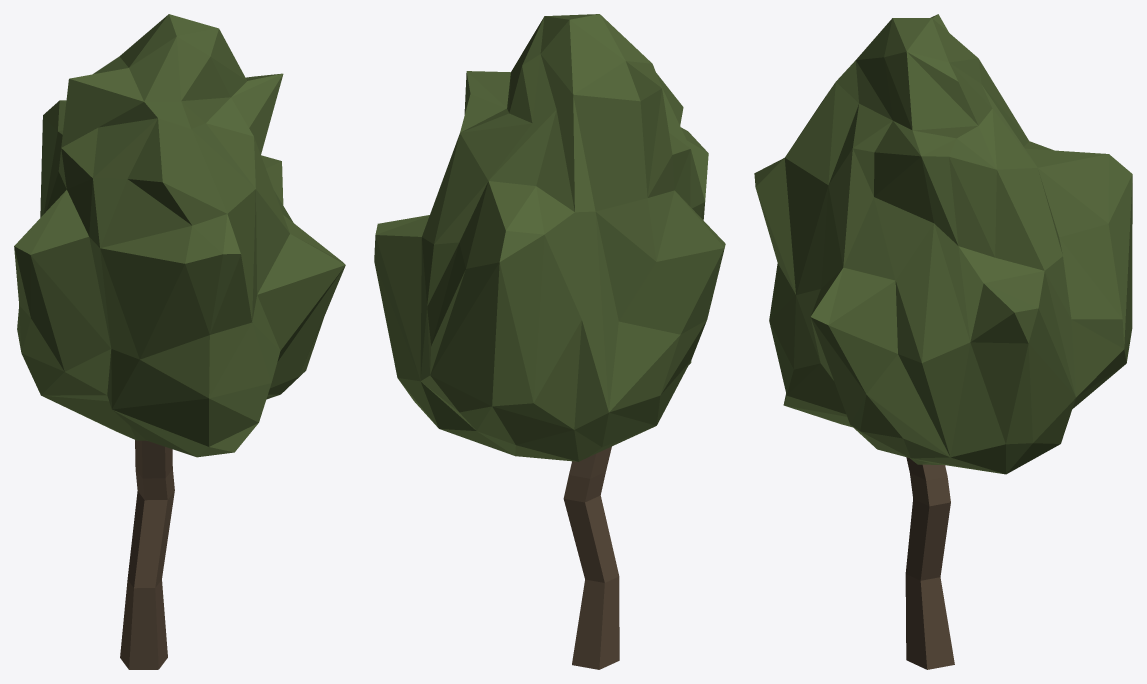
Rendered from Tree_057.fbx.
3 views of the same model, side by side, from view 1: azimuth 30°, elevation 25°; view 2: azimuth 150°, elevation 25°; view 3: azimuth 270°, elevation 25° (orthographic). The views are drawn at different scales.
Parts seen in each view (by area): view 1: tree_057; view 2: tree_057; view 3: tree_057.
Part boxes in pixels (x1=…): tree_057: x1=14, y1=14, x2=345, y2=669; tree_057: x1=374, y1=14, x2=725, y2=669; tree_057: x1=754, y1=14, x2=1132, y2=669.
Size of the model in its own units: 0.5701 by 1.13 by 0.5919.
Materials: 1 (1 with a texture image).
